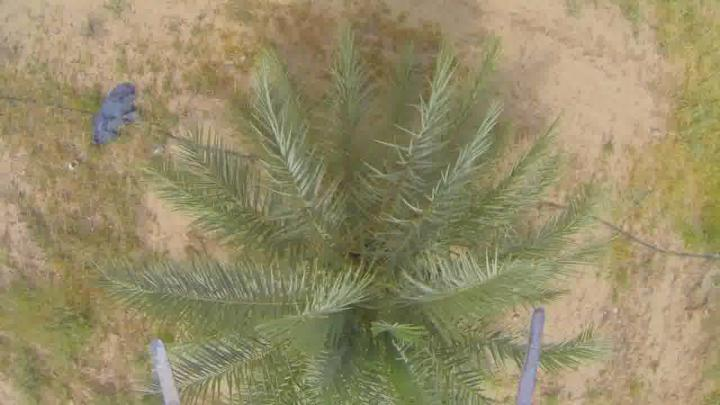Date-Palm-Crown: (237, 118, 505, 404)
